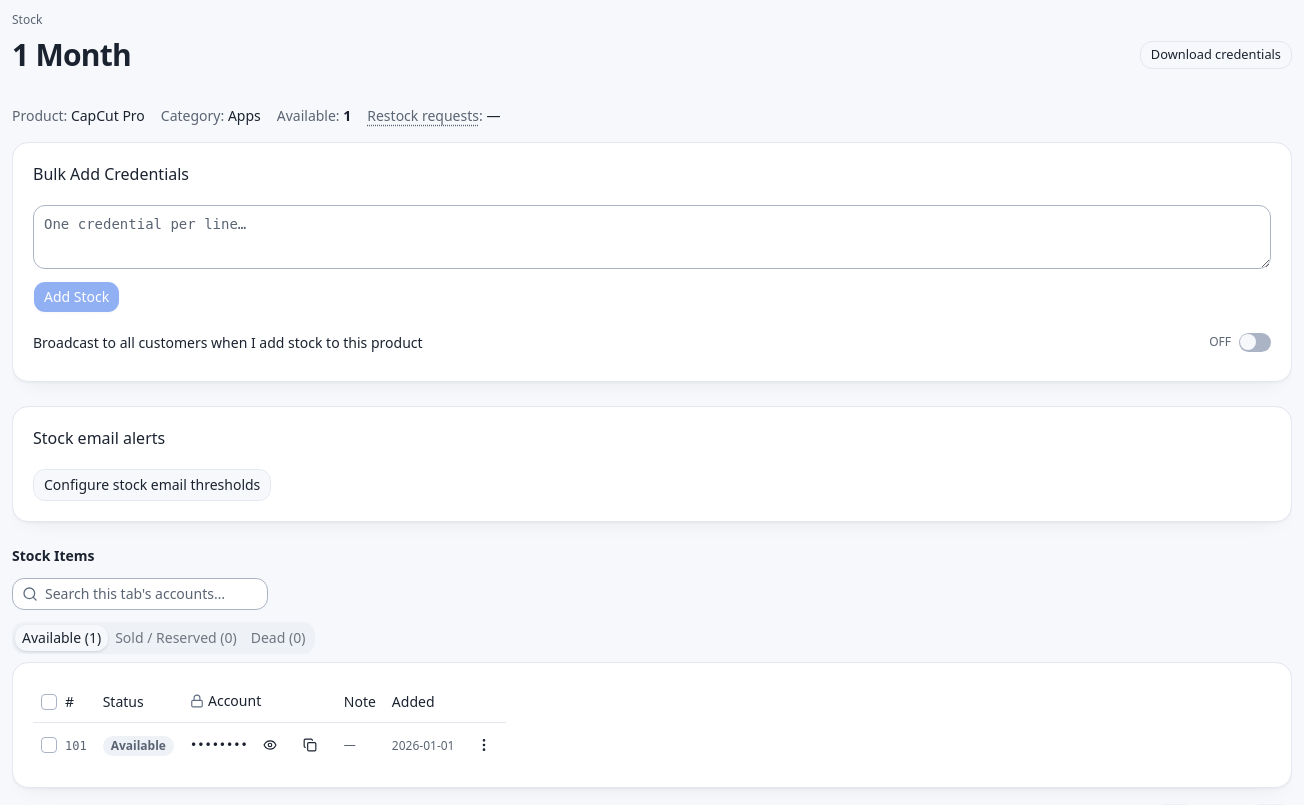
StockProductPage › masks the account credential until the row is revealed, via an audited server round-trip
Check: the text "Available" is shown, box [103,736,174,756]
Check: the text "••••••••" is shown, box [190,737,248,753]
Click the button named "Show account for stock item 101". click: (270,745)
box: [252,731,288,759]
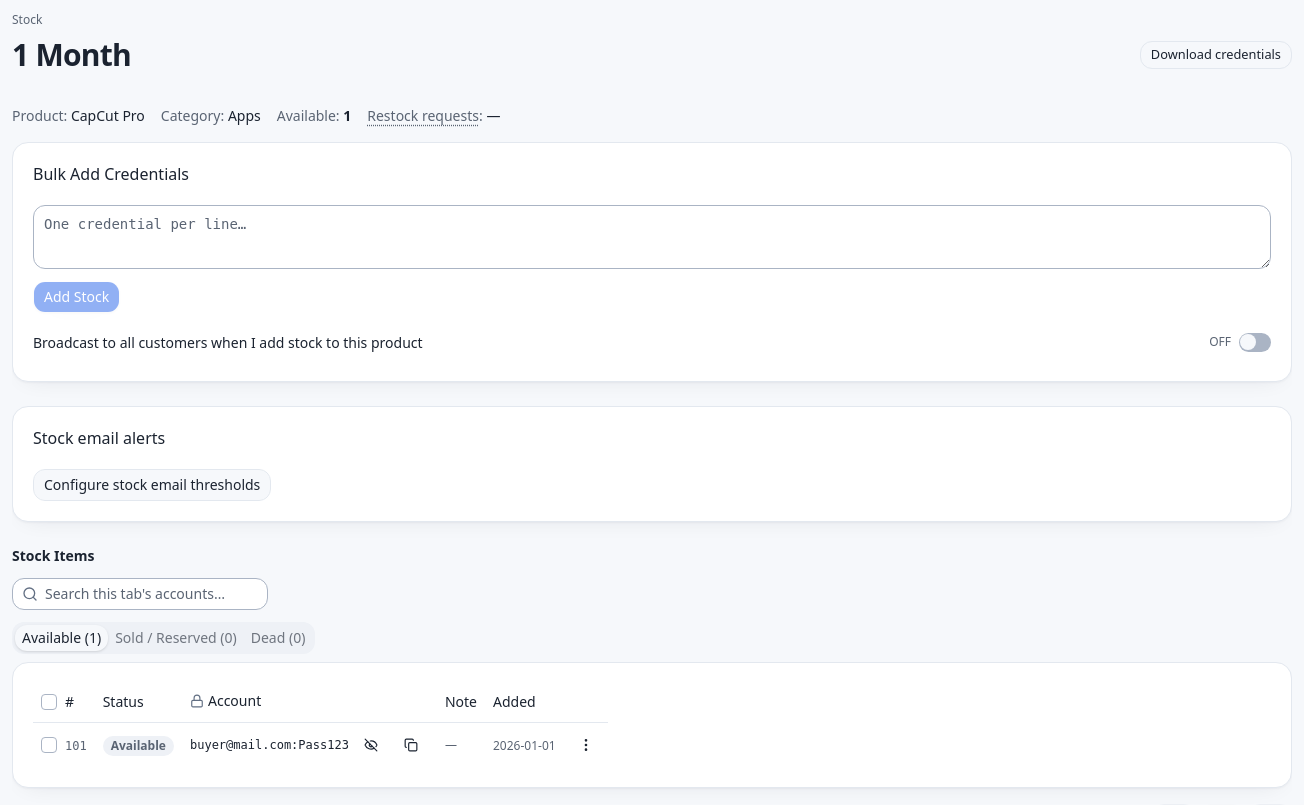
Check: the text "buyer@mail.com:Pass123" is shown, box [190,737,349,753]
// The same button now hides it again — no extra fetch needed to hide.
Click the button named "Hide account for stock item 101". click: (371,745)
box: [353,731,389,759]
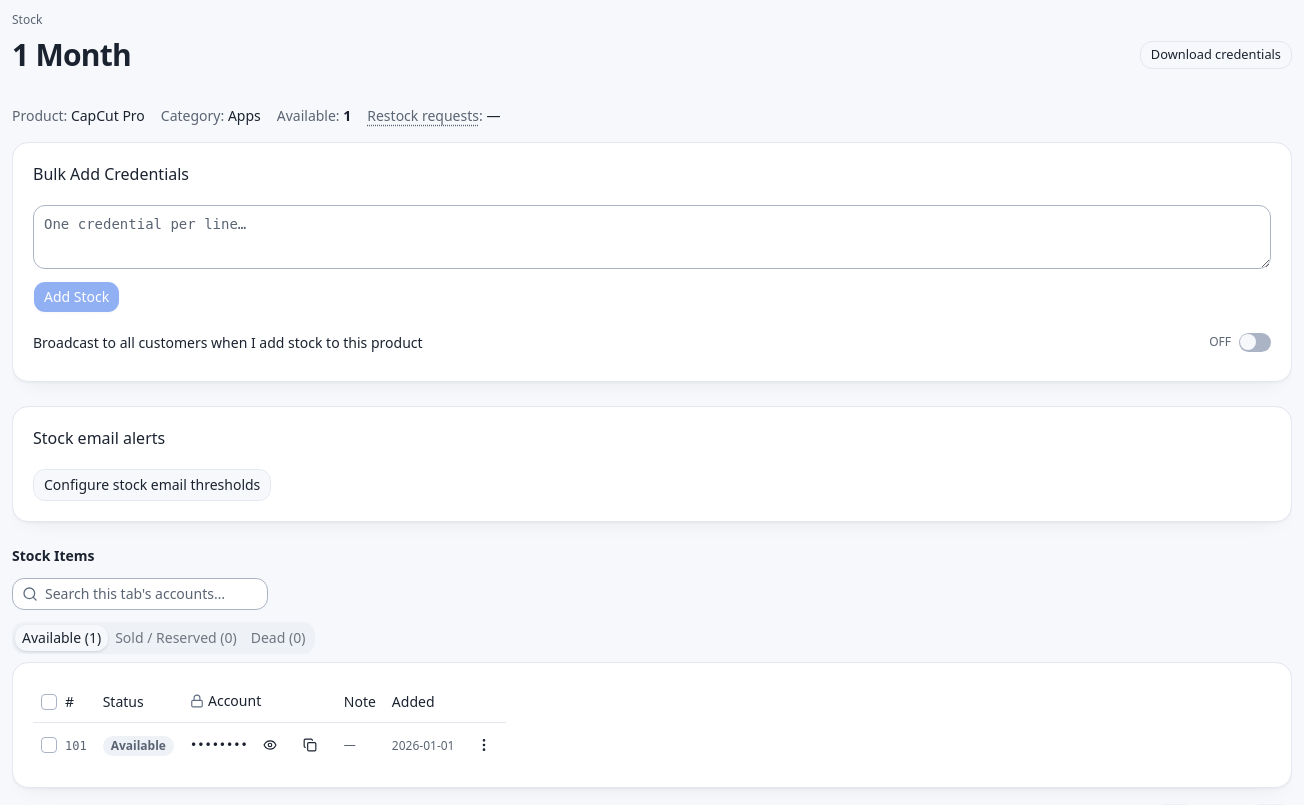
Check: the text "buyer@mail.com:Pass123" is gone
Check: the text "••••••••" is shown, box [190,737,248,753]
